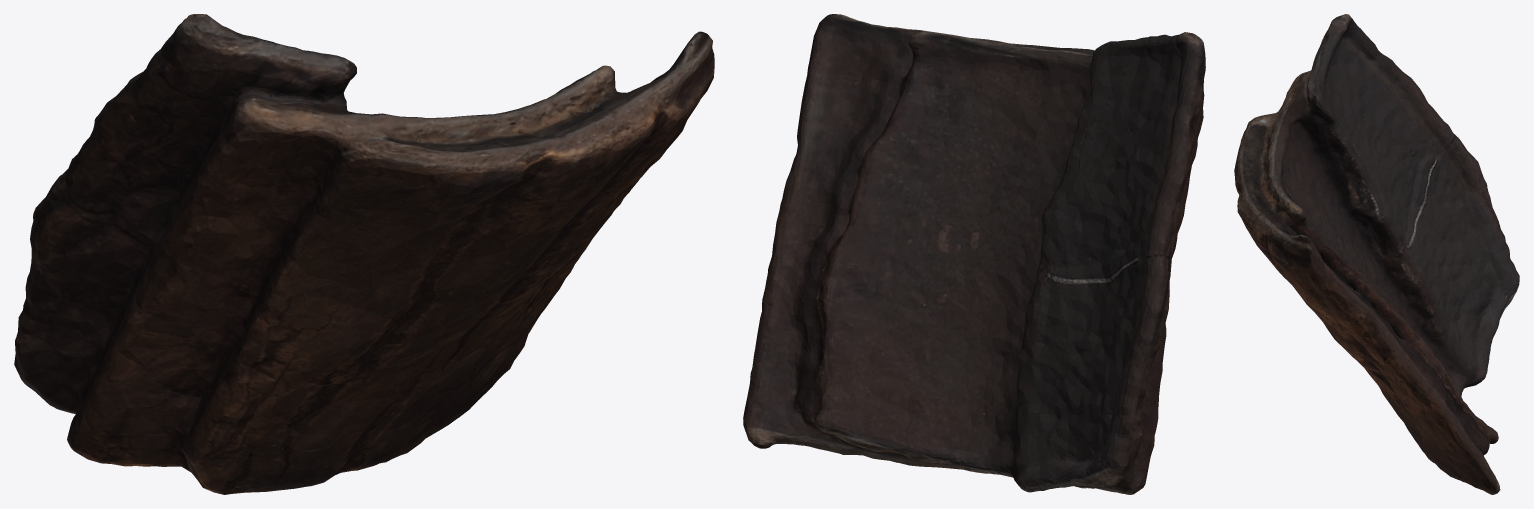
File: duzhong2.glb
The picture shows the model from 3 angles, left to right: view 1: azimuth 30°, elevation 25°; view 2: azimuth 150°, elevation 25°; view 3: azimuth 270°, elevation 25°; orthographic projection. The views are drawn at different scales.
Size of the model in its own units: 0.0757 by 0.0721 by 0.0519.
Materials: 1 (1 with a texture image).
